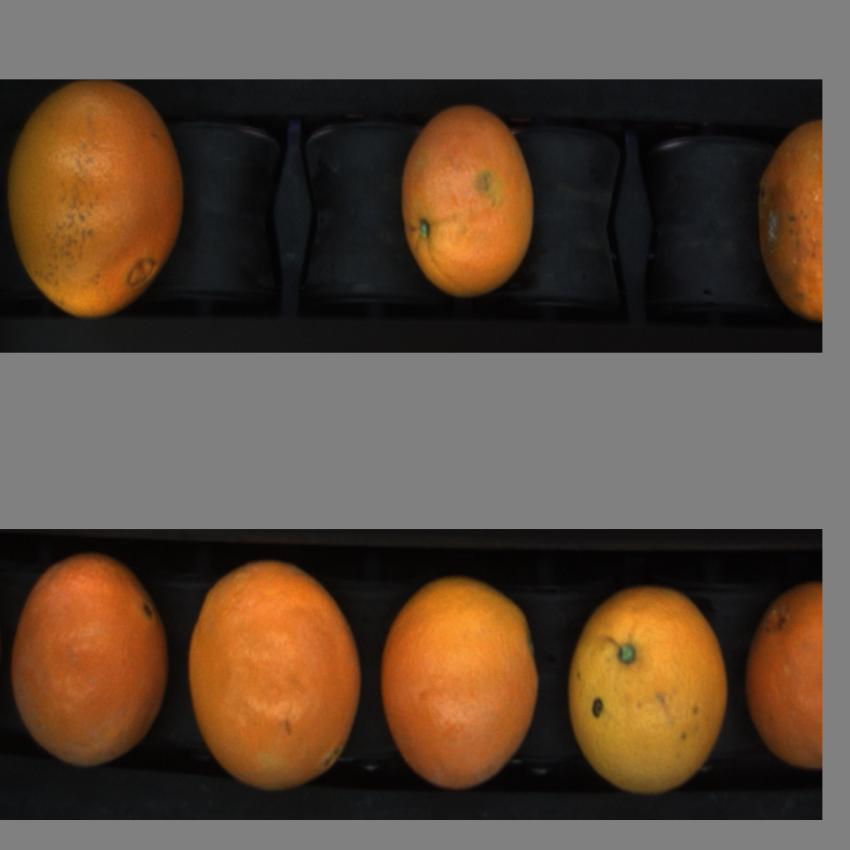Buen estado: (189, 562, 364, 792), (563, 578, 729, 801), (382, 567, 540, 796), (395, 95, 535, 306), (742, 572, 822, 775)
Mal estado: (8, 82, 189, 317), (8, 551, 173, 777), (749, 112, 823, 325)
